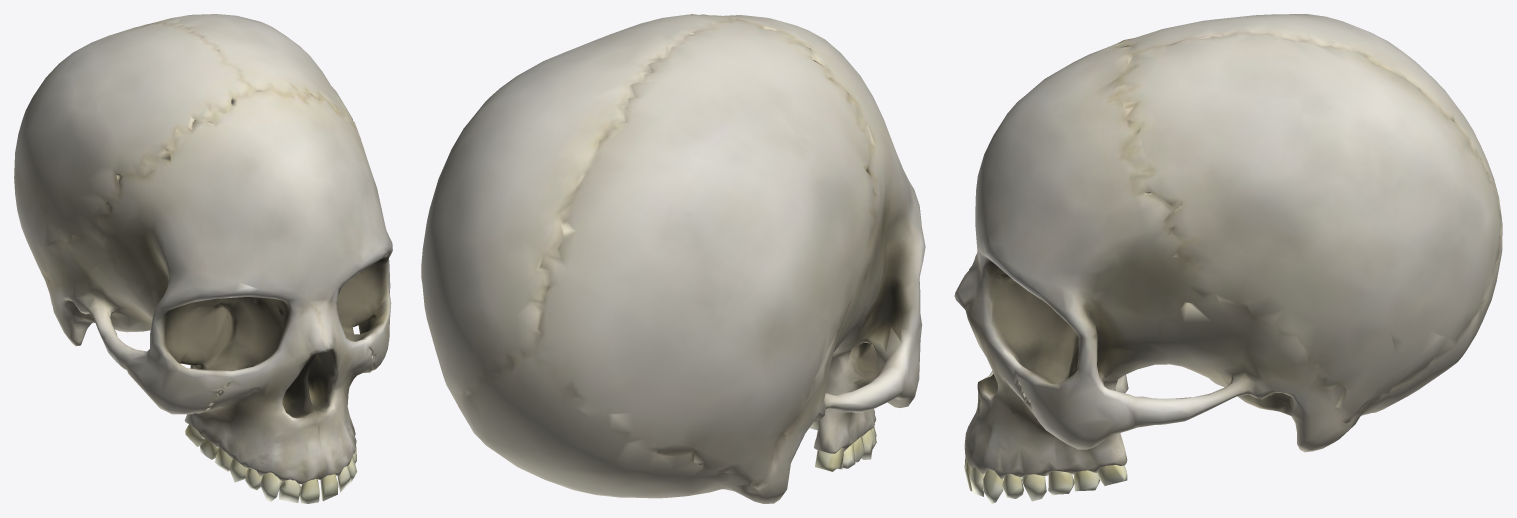
Rendered from Skull.gltf.
3 renders of one model, left to right at view 1: azimuth 30°, elevation 25°; view 2: azimuth 150°, elevation 25°; view 3: azimuth 270°, elevation 25°, orthographic. The views are drawn at different scales.
Visible parts, largest first — view 1: Group24975, Group31831; view 2: Group24975, Group31831; view 3: Group24975, Group31831.
Boxes of the visible parts, <box> form: Group24975: <box>14,14,392,484</box>; Group31831: <box>185,424,356,503</box>; Group24975: <box>421,14,925,503</box>; Group31831: <box>809,421,876,471</box>; Group24975: <box>954,14,1502,479</box>; Group31831: <box>964,456,1127,503</box>.
Bounding box in the file's own units: 2.26 × 2.94 × 3.25.
2 materials, 2 textured.
